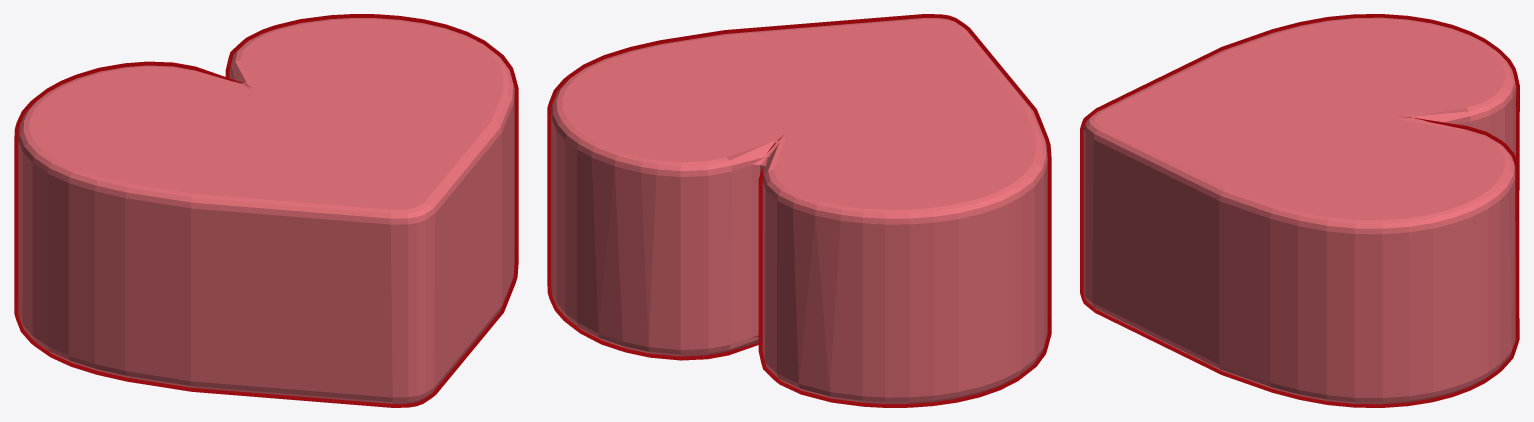
The model's file is coracao morango.glb.
3 views of the same model, side by side, from view 1: azimuth 30°, elevation 25°; view 2: azimuth 150°, elevation 25°; view 3: azimuth 270°, elevation 25° (orthographic). The views are drawn at different scales.
Visible parts, largest first — view 1: Circle.006; view 2: Circle.006; view 3: Circle.006.
Part boxes in pixels (left/top/right/bottom): Circle.006: left=14, top=14, right=518, bottom=407; Circle.006: left=547, top=14, right=1051, bottom=407; Circle.006: left=1080, top=14, right=1519, bottom=407.
Bounding box in the file's own units: 24.16 × 10 × 21.03.
